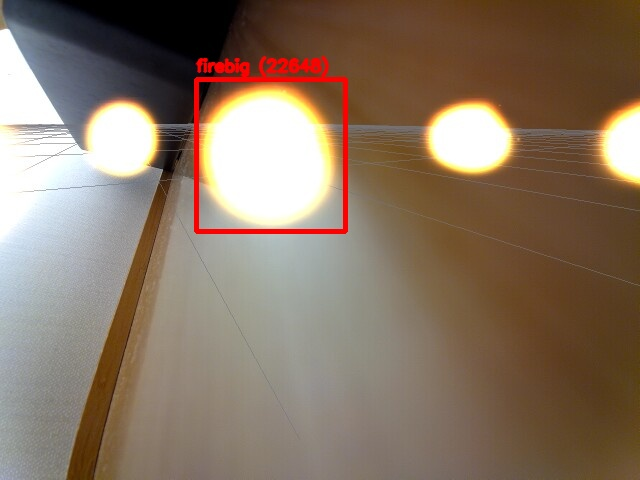firebig: (196, 79, 345, 231)
